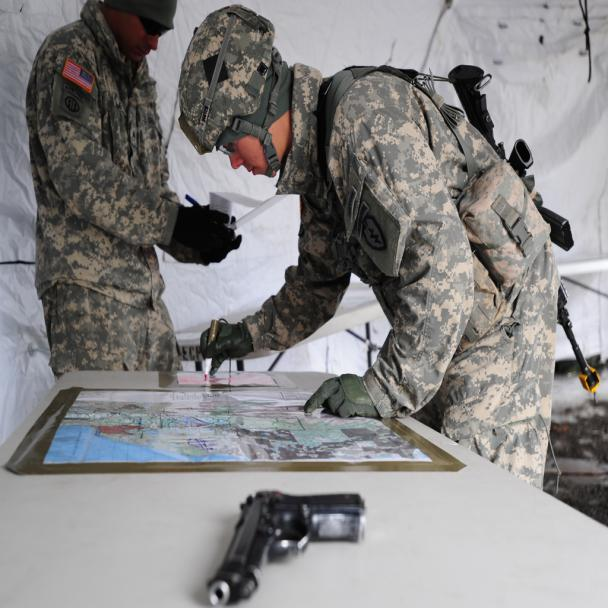Gun: (201, 482, 407, 607)
Hand: (172, 188, 254, 281), (302, 365, 395, 430), (196, 299, 264, 386)
